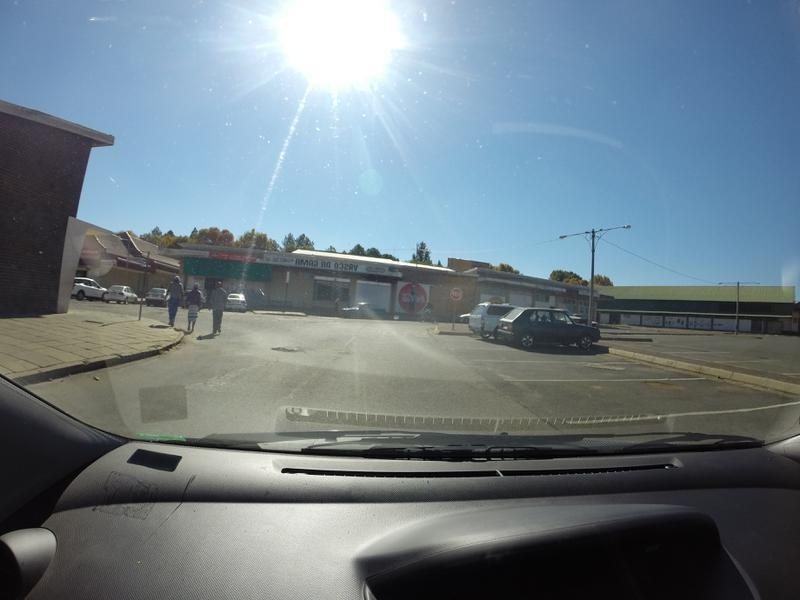pothole: (262, 339, 319, 358), (646, 376, 680, 398)
